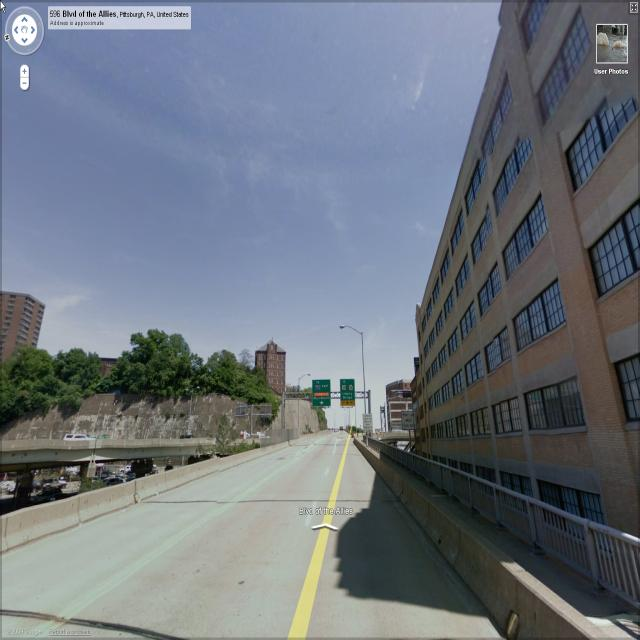b_1: (427, 1, 640, 540), (0, 284, 56, 358), (371, 371, 415, 431), (256, 340, 292, 408), (406, 377, 430, 463)
